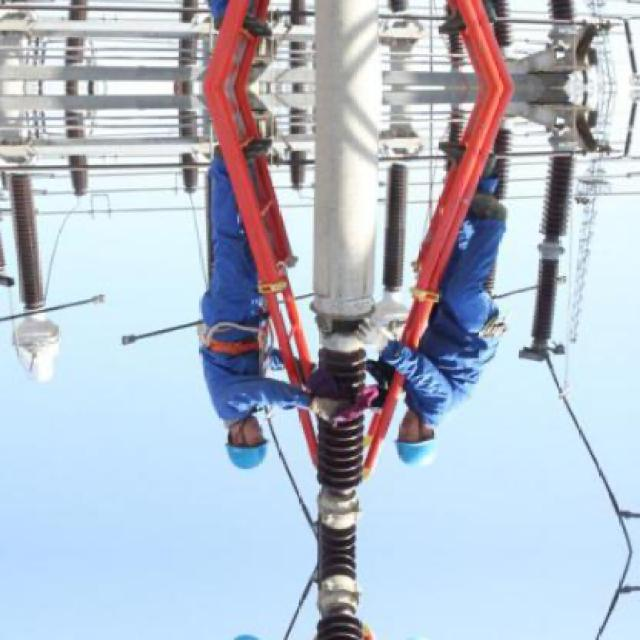con casco: (150, 372, 278, 482), (350, 372, 462, 483)
